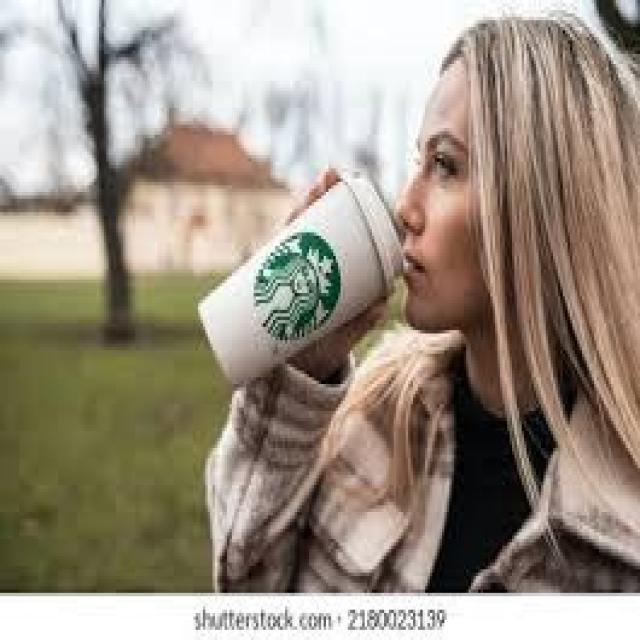starbucks: (249, 229, 343, 350)
